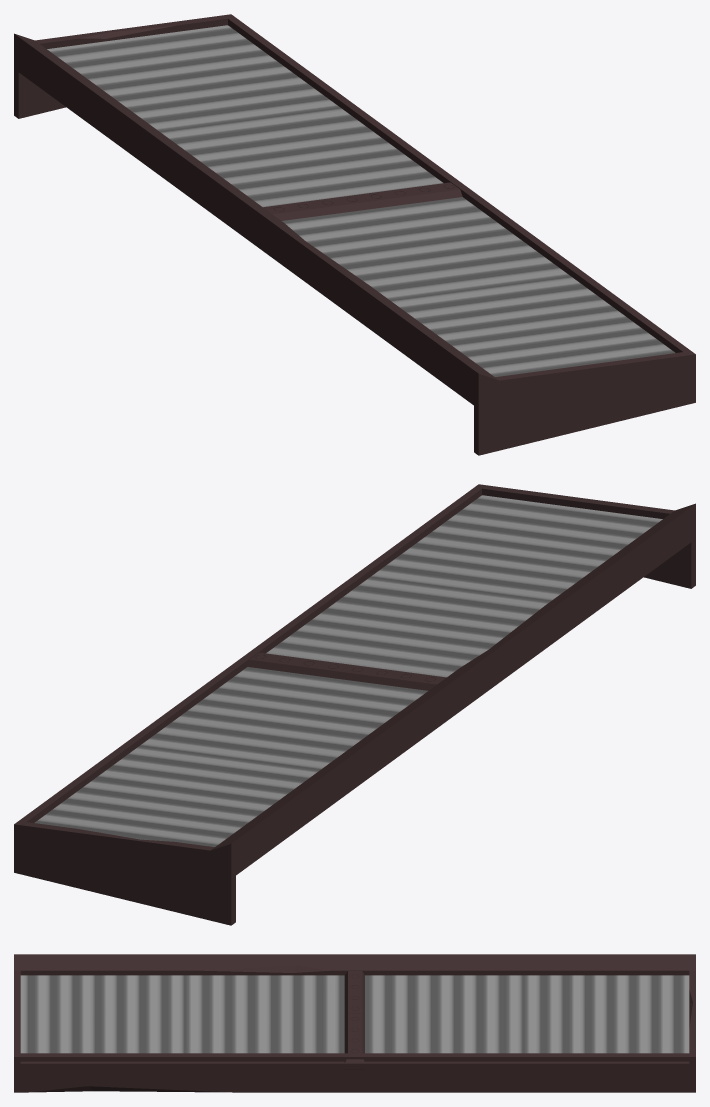
Rendered from SW_ENV_EL_Station_Elevator_Walkway_Roof.fbx.
3 views of the same model, one above another, from view 1: azimuth 30°, elevation 25°; view 2: azimuth 150°, elevation 25°; view 3: azimuth 270°, elevation 25° (orthographic). The views are drawn at different scales.
Parts seen in each view (by area): view 1: SW_ENV_EL_Station_Elevator_Walkway_Roof; view 2: SW_ENV_EL_Station_Elevator_Walkway_Roof; view 3: SW_ENV_EL_Station_Elevator_Walkway_Roof.
Boxes of the visible parts, left/top/right/bottom form: SW_ENV_EL_Station_Elevator_Walkway_Roof: left=14, top=14, right=695, bottom=455; SW_ENV_EL_Station_Elevator_Walkway_Roof: left=14, top=484, right=695, bottom=925; SW_ENV_EL_Station_Elevator_Walkway_Roof: left=14, top=954, right=695, bottom=1092.
Size of the model in its own units: 275 by 97.44 by 1000.
